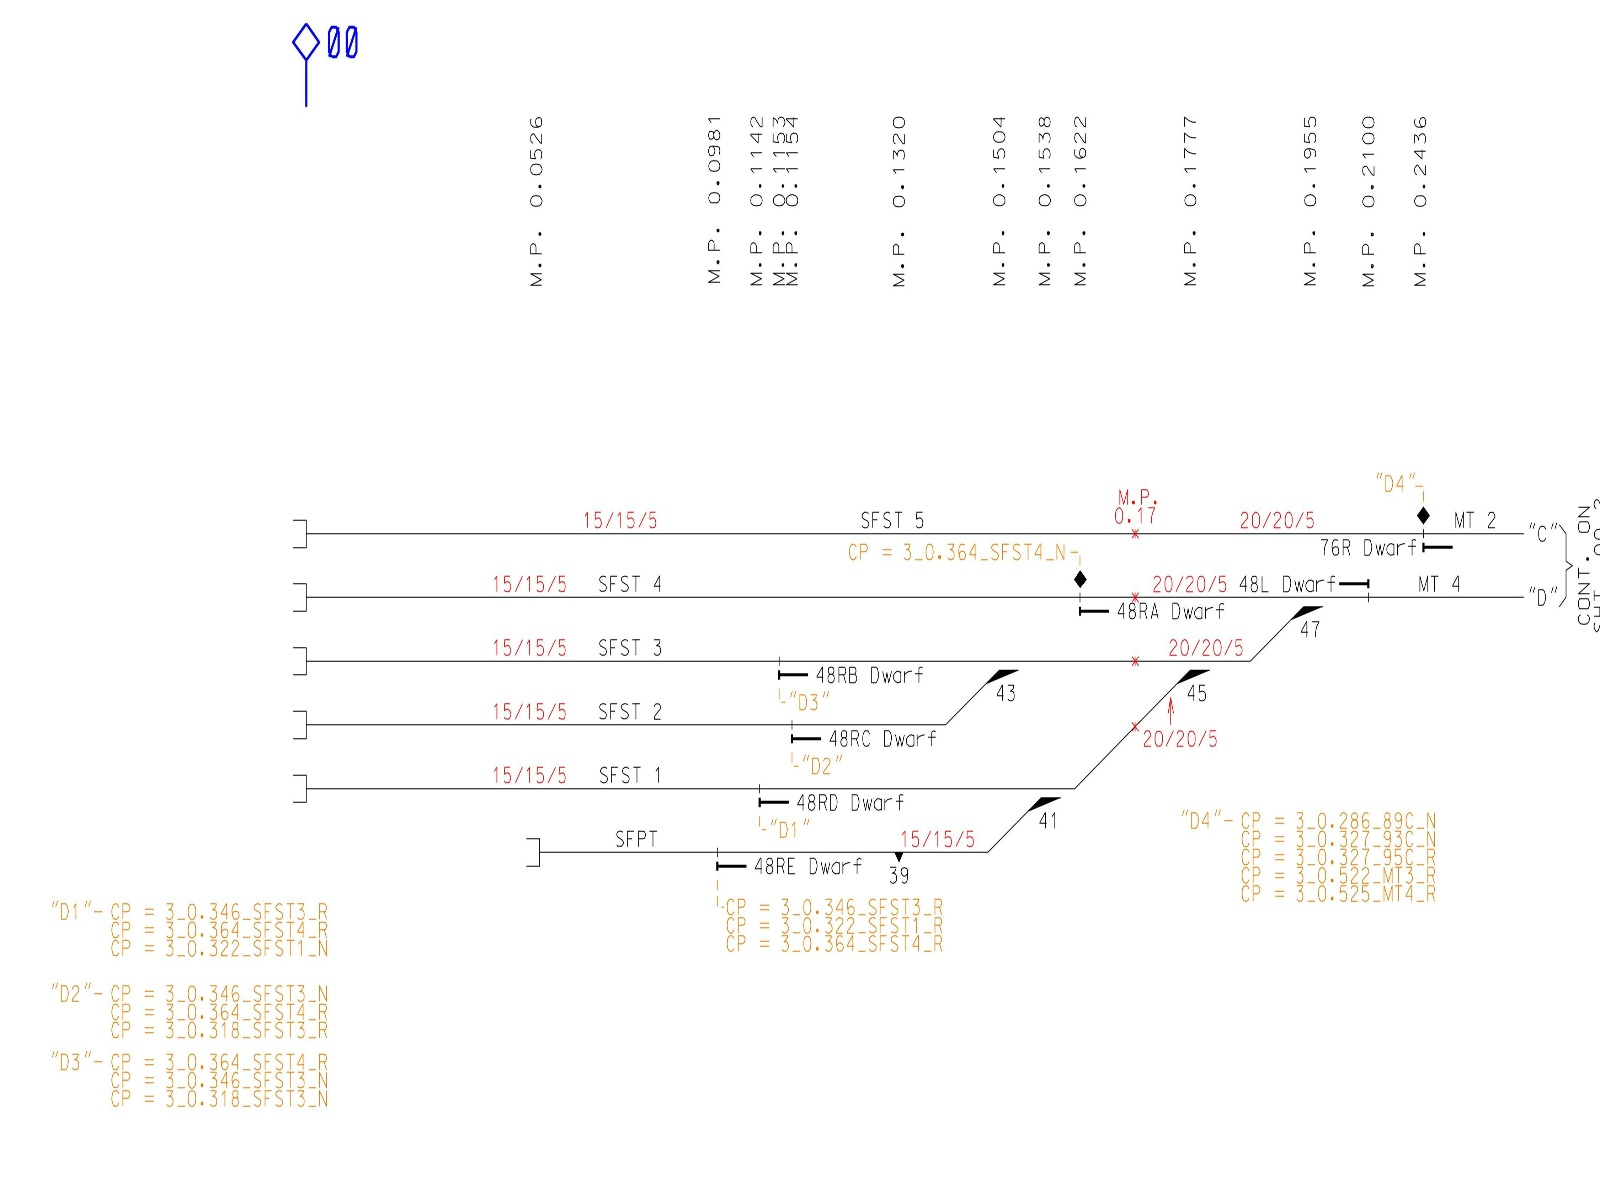leftSignal: (1296, 529, 1469, 570), (1235, 563, 1390, 608)
milepost: (500, 105, 578, 304), (738, 101, 811, 297), (1026, 100, 1099, 296), (947, 101, 1020, 297), (1157, 100, 1230, 296), (1266, 101, 1339, 297), (661, 103, 734, 299), (860, 105, 934, 300), (1386, 102, 1459, 297)
rightSignal: (779, 711, 957, 766), (1066, 587, 1236, 643), (700, 842, 871, 896), (765, 650, 941, 701), (748, 776, 917, 827)
switch: (1271, 597, 1339, 654), (1007, 782, 1073, 838), (975, 658, 1043, 713), (1163, 654, 1231, 710)
